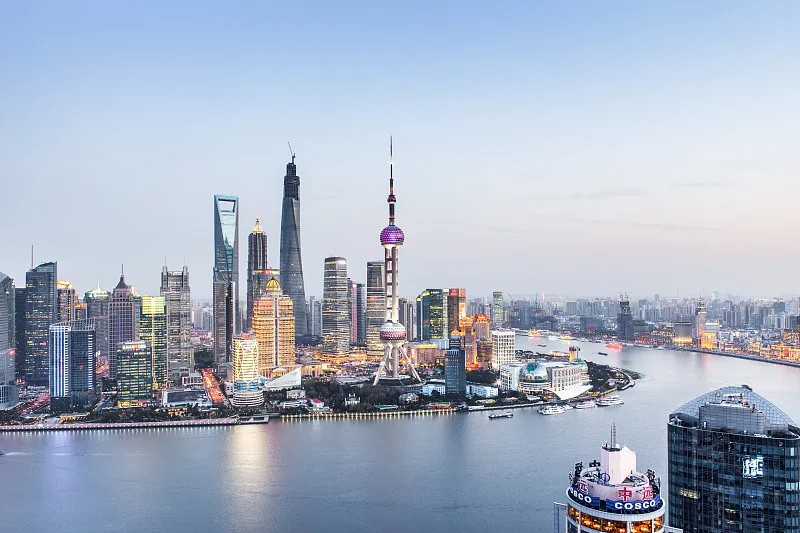Oriental: (373, 135, 421, 385)
